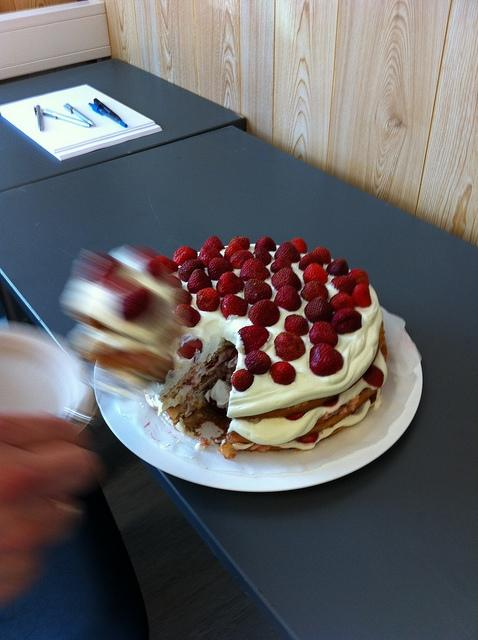strawberry: (309, 342, 343, 376), (274, 332, 306, 362), (238, 325, 270, 355), (121, 288, 149, 322), (248, 299, 280, 327), (102, 274, 140, 296), (304, 295, 332, 324), (271, 266, 302, 292), (331, 308, 362, 334), (244, 278, 272, 305), (309, 322, 338, 348), (215, 272, 244, 298), (220, 294, 248, 320), (240, 258, 270, 282), (274, 286, 302, 311), (187, 268, 213, 294), (244, 350, 272, 374), (178, 258, 205, 282), (270, 362, 296, 386), (207, 257, 233, 281), (300, 280, 328, 302), (175, 304, 200, 328), (196, 287, 220, 312), (198, 246, 224, 268), (150, 256, 178, 276), (328, 292, 356, 312), (285, 314, 309, 337), (303, 263, 328, 285), (274, 242, 300, 263), (351, 283, 372, 308), (178, 339, 203, 360), (172, 246, 198, 266), (233, 368, 254, 392), (229, 250, 254, 270), (363, 366, 384, 388), (331, 276, 354, 296), (298, 253, 323, 271), (346, 269, 370, 287), (326, 258, 349, 276), (224, 242, 244, 262), (171, 288, 193, 306), (253, 247, 273, 266), (204, 236, 225, 252), (271, 258, 292, 274), (254, 237, 276, 252), (290, 238, 308, 255), (230, 236, 250, 251), (161, 275, 183, 288), (321, 393, 340, 408), (296, 432, 318, 444), (284, 412, 305, 421)
